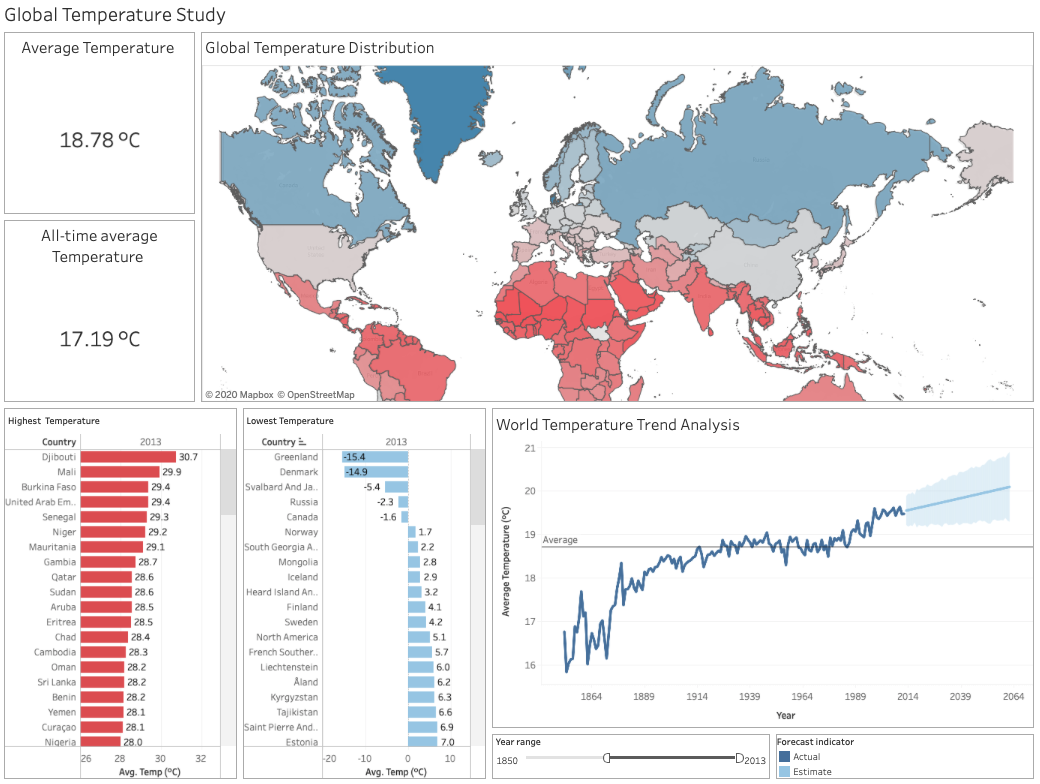

Layout of this report page (visuals, bound fields, positions):
{"tool":"tableau","page":{"name":"Dashboard 1","canvas":[1000,800],"ordinal":0},"visuals":[{"type":"worksheet","title":"Map","mark":"Automatic","box":[8,8,984,392]},{"type":"worksheet","title":"Top","mark":"Bar","rows":["Country"],"cols":["dt","AverageTemperature"],"box":[8,400,227,392]},{"type":"worksheet","title":"Bottom","mark":"Bar","rows":["Country"],"cols":["dt","AverageTemperature"],"box":[235,400,237,392]},{"type":"worksheet","title":"Trend","mark":"Automatic","rows":["AverageTemperature"],"cols":["dt"],"box":[472,400,520,338]},{"type":"filter","title":"Trend","param":"[federated.1b9bsu61972x6418vfov30r2xt57].[tyr:dt:qk]","box":[472,738,269,54]},{"type":"legend","title":"Trend","param":"[federated.1b9bsu61972x6418vfov30r2xt57].[none:Forecast Indicator:nk]","box":[741,738,251,54]}]}

Visuals, with their boxes on the page's 1000x800 design canvas (x1, y1, x2, y2). These are canvas units, not pixel positions in the 1040x784 screenshot, which may show the page scaled, cropped or inside an application window:
"Map" worksheet: bbox(8, 8, 992, 400)
"Top" worksheet (Bar marks): bbox(8, 400, 235, 792)
"Bottom" worksheet (Bar marks): bbox(235, 400, 472, 792)
"Trend" worksheet: bbox(472, 400, 992, 738)
"Trend" filter: bbox(472, 738, 741, 792)
"Trend" legend: bbox(741, 738, 992, 792)
